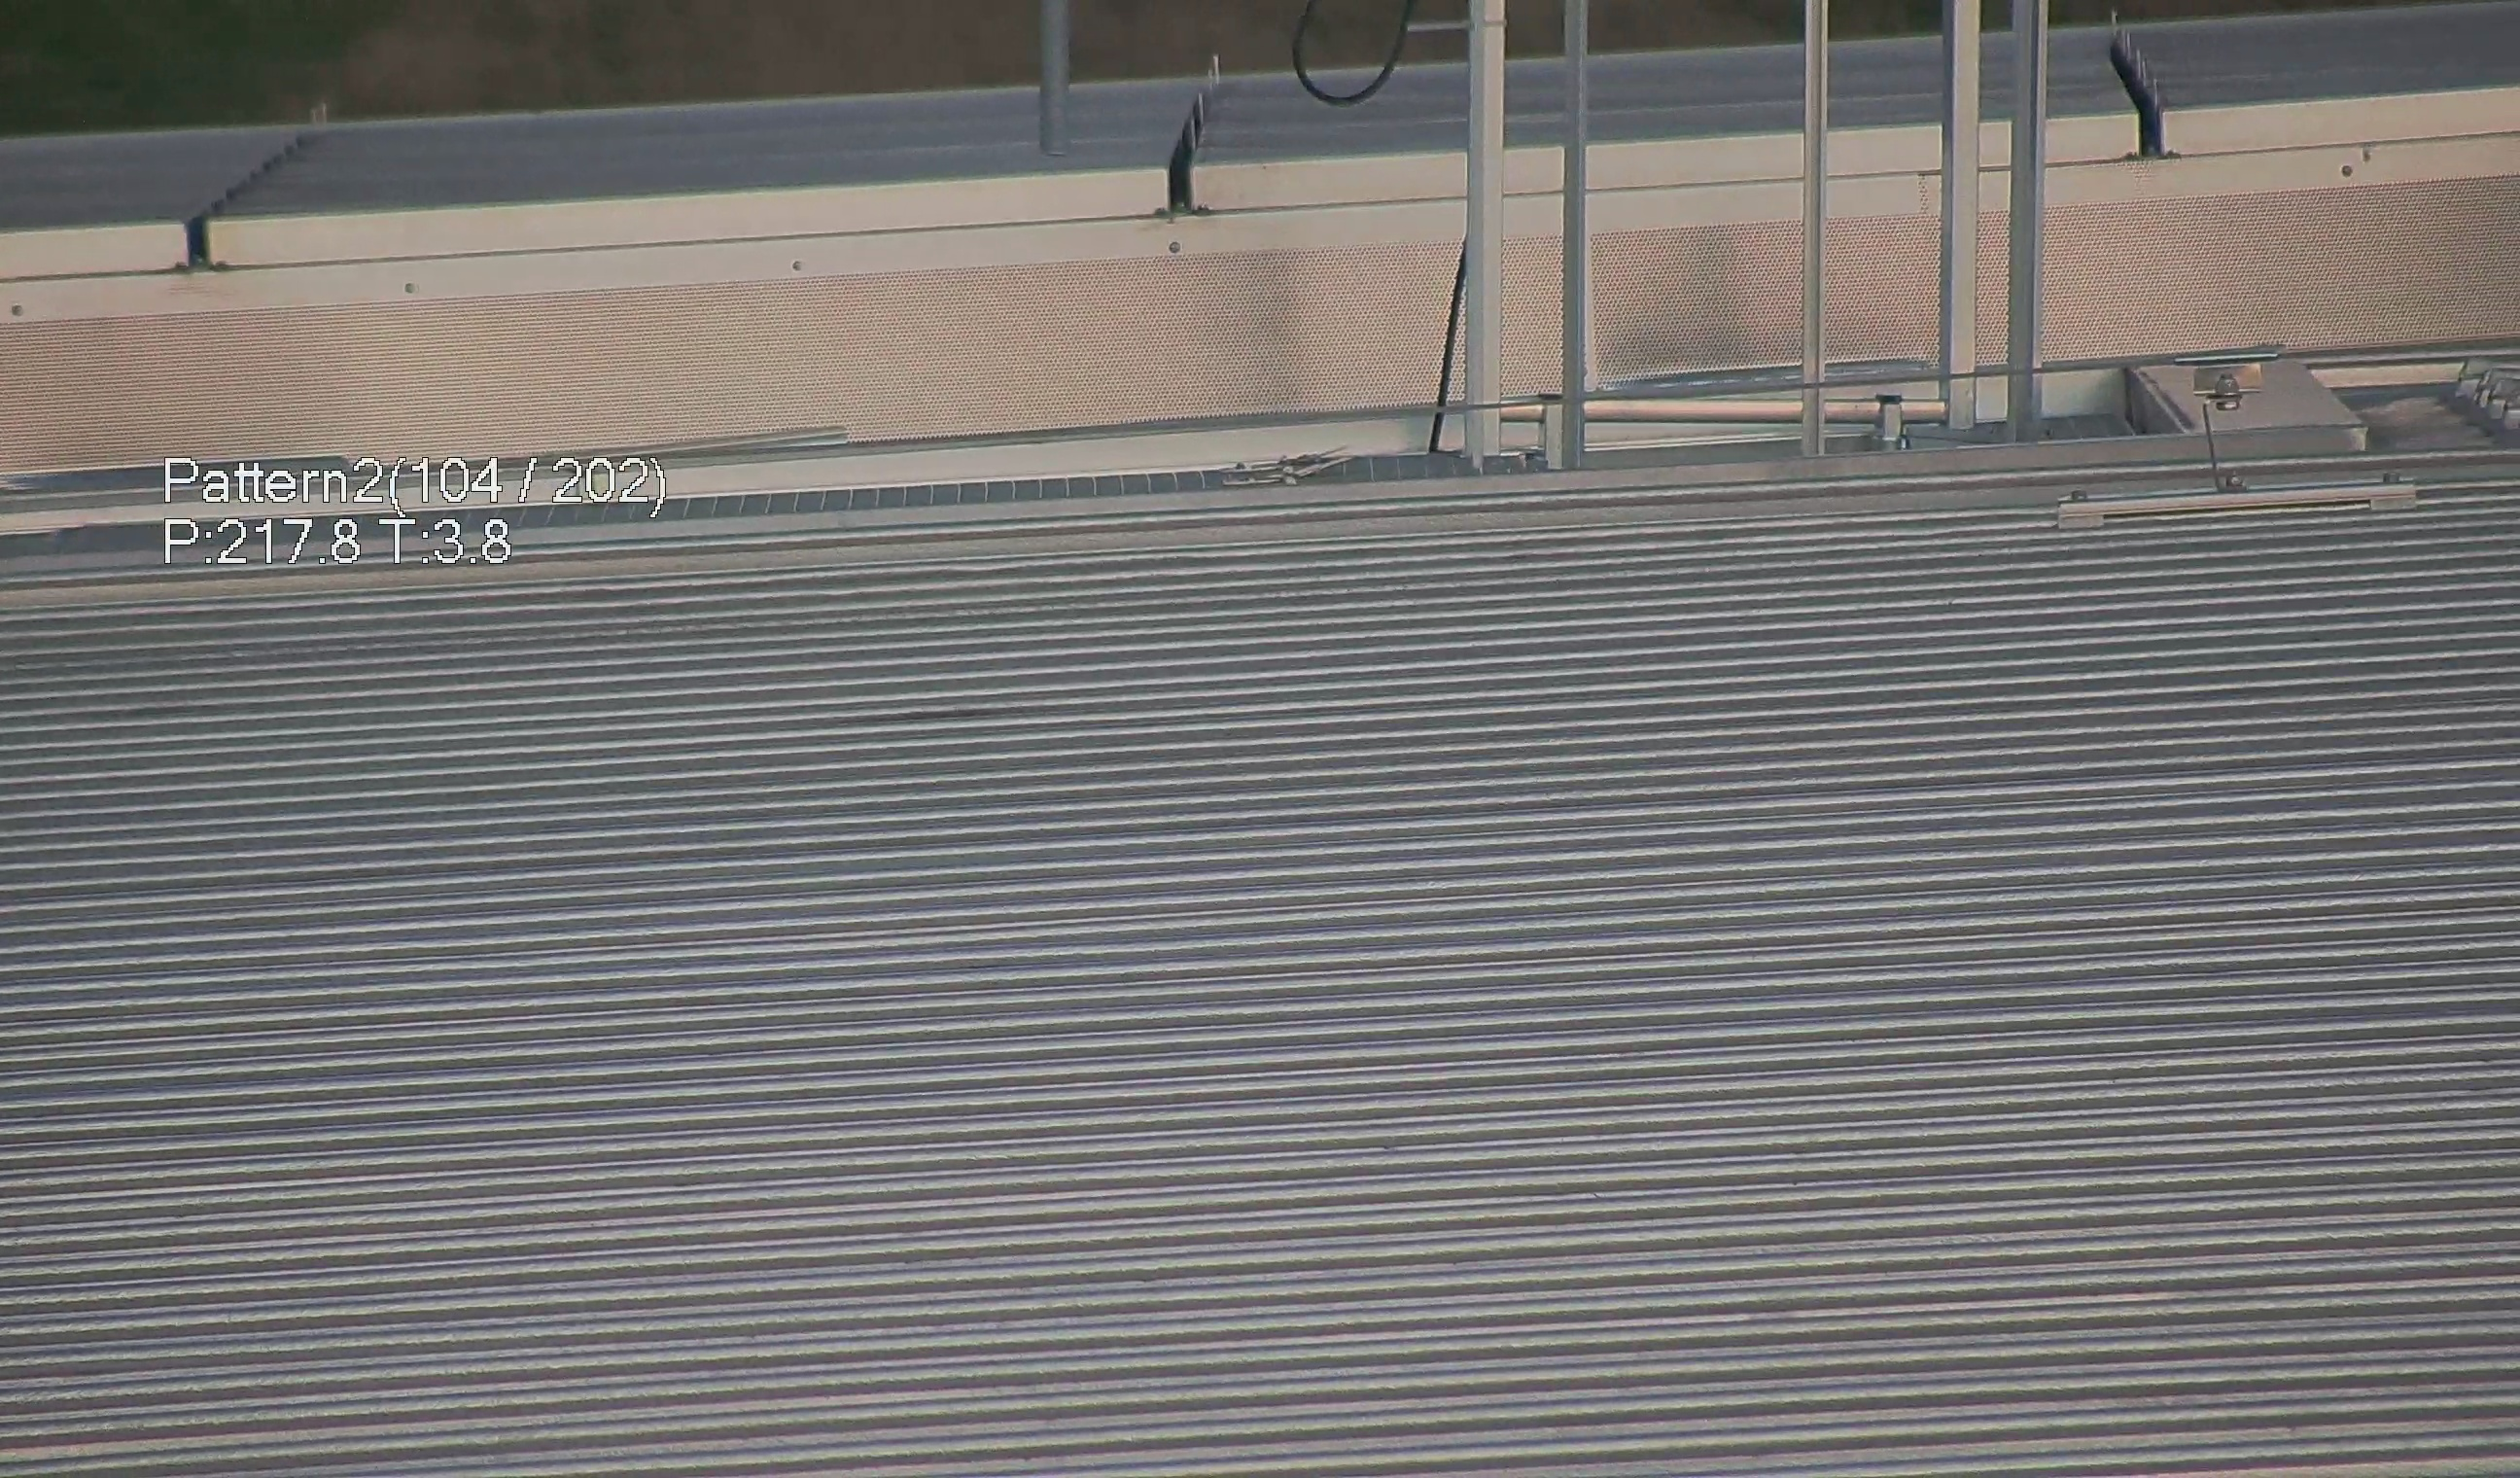Other: (2101, 9, 2189, 174)
